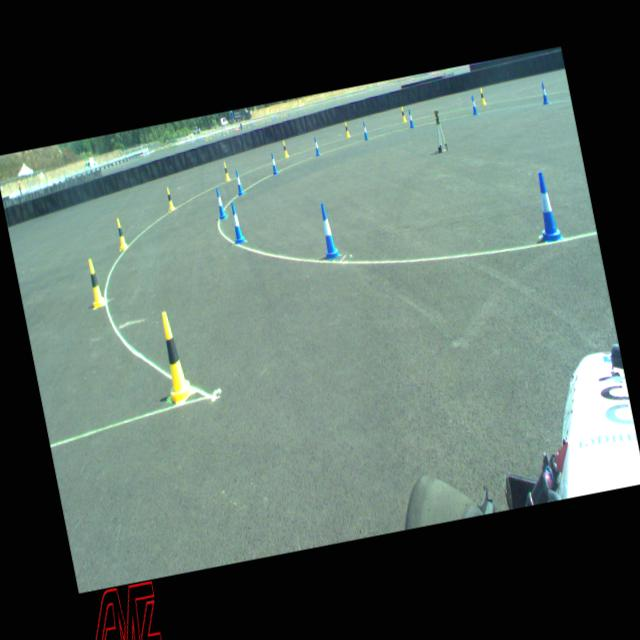blue_cone: (529, 170, 564, 243), (315, 200, 342, 260), (227, 202, 247, 244), (214, 187, 228, 220), (234, 170, 245, 196), (539, 82, 550, 105), (312, 136, 322, 156), (470, 95, 479, 115), (270, 152, 278, 174), (407, 110, 416, 128), (362, 122, 369, 141)
yellow_cone: (153, 310, 195, 406), (85, 258, 106, 308), (114, 218, 129, 251), (164, 187, 176, 210), (222, 162, 231, 182), (478, 88, 486, 106), (400, 106, 408, 122), (282, 140, 289, 158), (344, 122, 351, 137)
